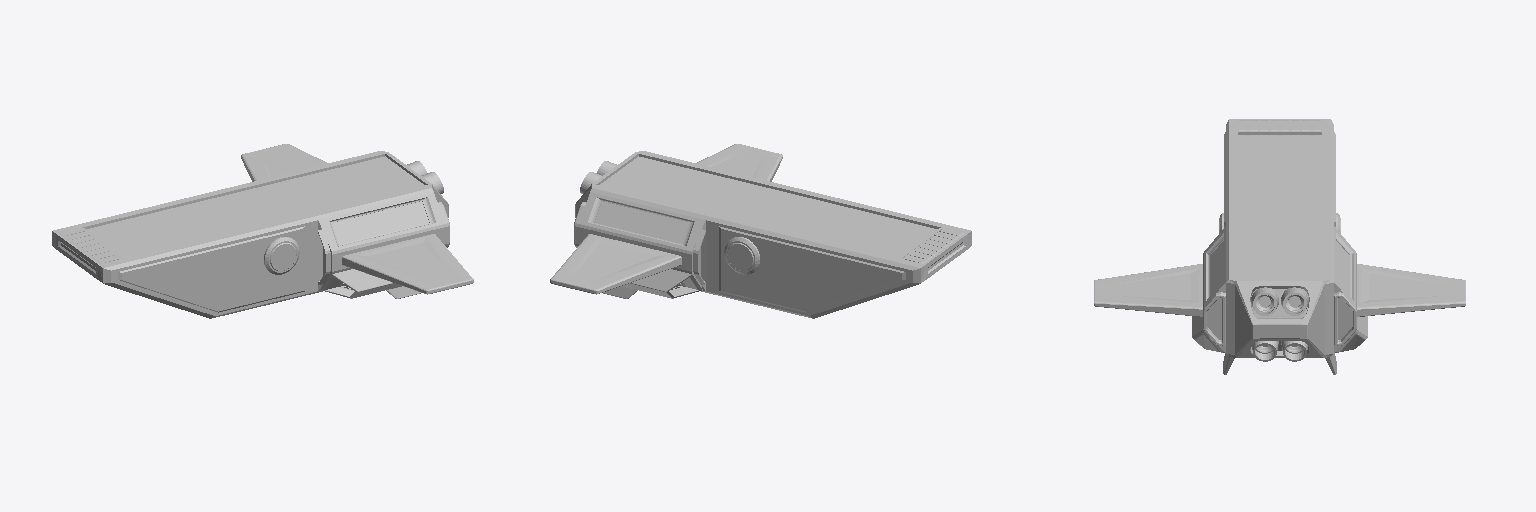
Rendered from shuttle.obj.
The picture shows the model from 3 angles: view 1: azimuth 30°, elevation 25°; view 2: azimuth 150°, elevation 25°; view 3: azimuth 270°, elevation 25°; orthographic projection.
Visible parts, largest first — view 1: Cube, Cylinder_Cylinder.004; view 2: Cube, Cylinder_Cylinder.004; view 3: Cube, Cylinder.002_Cylinder.003.
Boxes of the visible parts, x1,y1,x2,y2 form: Cube: [52, 144, 473, 318]; Cylinder_Cylinder.004: [264, 237, 299, 274]; Cube: [550, 144, 971, 318]; Cylinder_Cylinder.004: [724, 237, 759, 274]; Cube: [1094, 119, 1465, 374]; Cylinder.002_Cylinder.003: [1251, 287, 1308, 361].
Size of the model in its own units: 9.73 by 2.62 by 8.77.